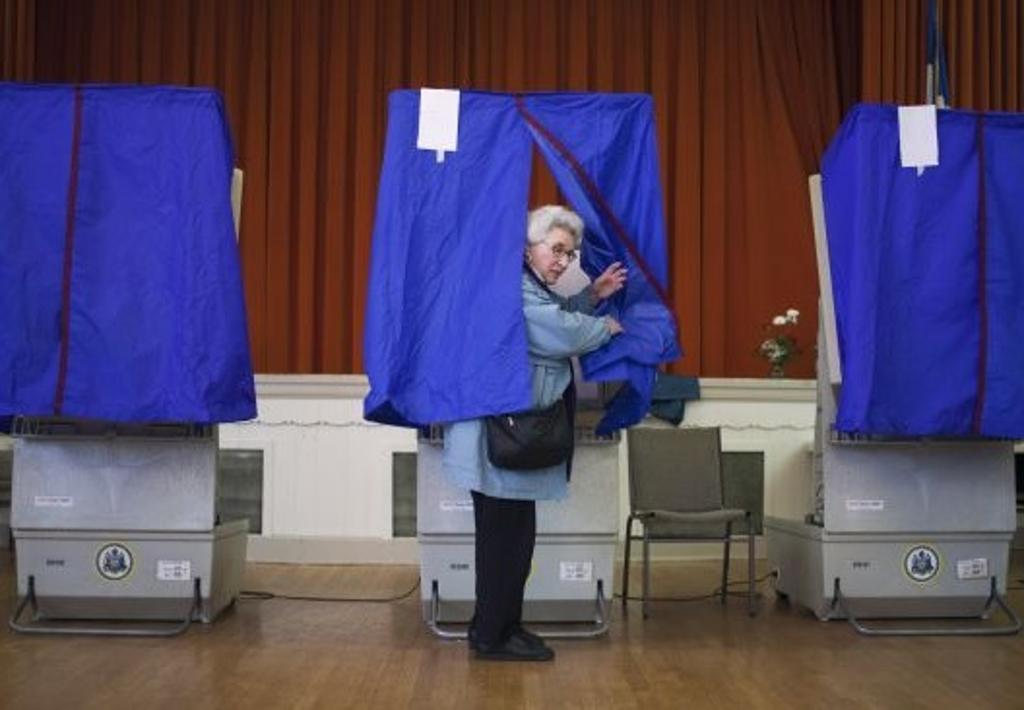face: (541, 225, 575, 284)
